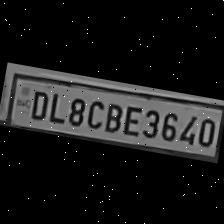0: (194, 112, 217, 147)
3: (139, 104, 161, 138)
4: (175, 108, 198, 144)
6: (156, 106, 180, 142)
8: (62, 91, 88, 126)
B: (100, 98, 124, 132)
C: (82, 94, 106, 130)
D: (24, 85, 50, 121)
E: (120, 100, 142, 136)
L: (46, 88, 67, 122)
